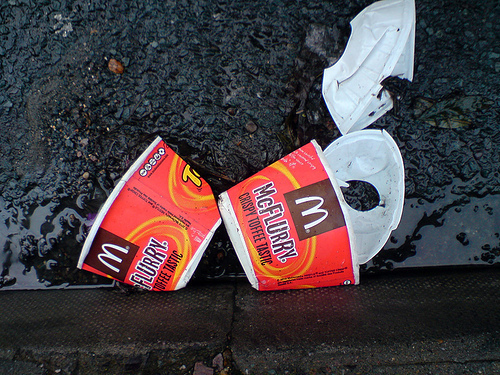litter: (221, 126, 406, 291), (76, 134, 218, 292), (322, 0, 416, 126)
